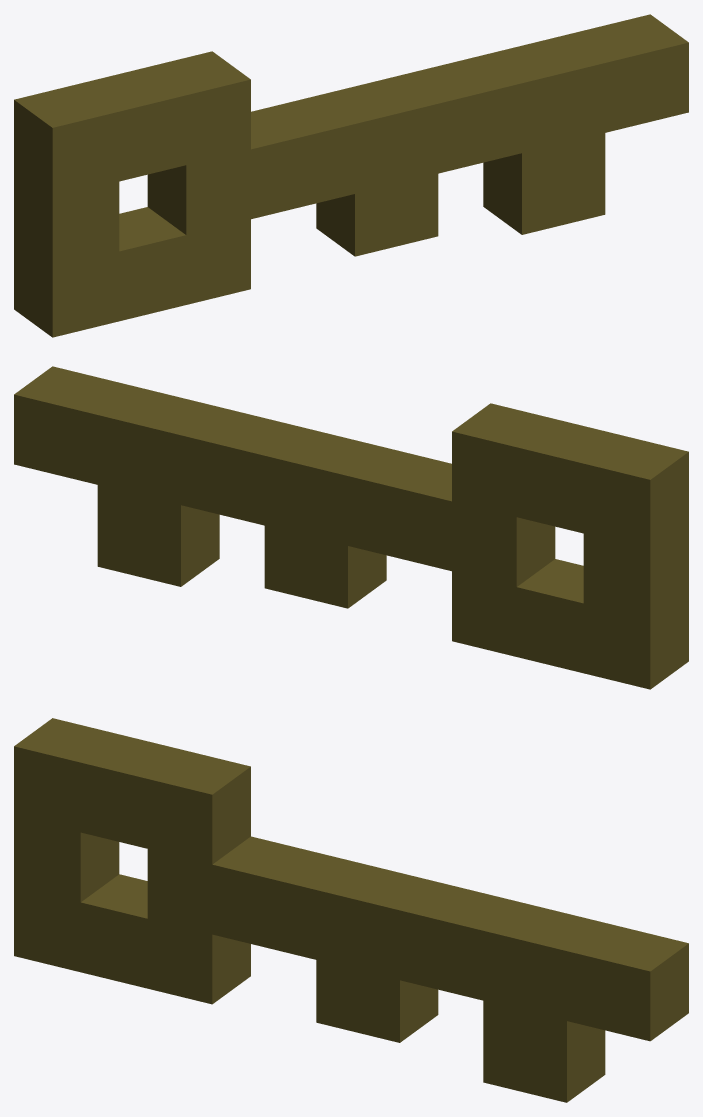
The model's file is Key.fbx.
3 renders of one model, top to bottom at view 1: azimuth 30°, elevation 25°; view 2: azimuth 150°, elevation 25°; view 3: azimuth 330°, elevation 25°, orthographic.
Parts seen in each view (by area): view 1: Cube; view 2: Cube; view 3: Cube.
Part boxes in pixels (x1,y1,x2,y2): Cube: [14, 14, 688, 337]; Cube: [14, 366, 688, 689]; Cube: [14, 718, 688, 1102].
Size of the model in its own units: 476 by 159 by 50.
